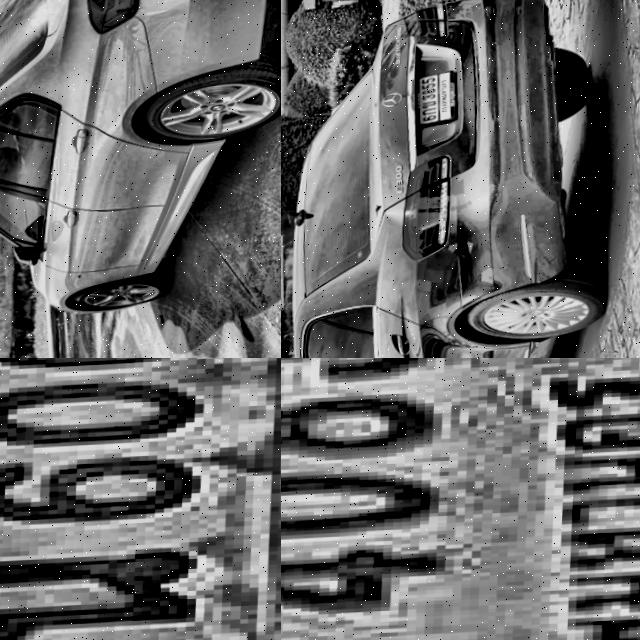license-plate: (281, 358, 640, 640), (0, 358, 281, 640), (414, 69, 462, 130)
